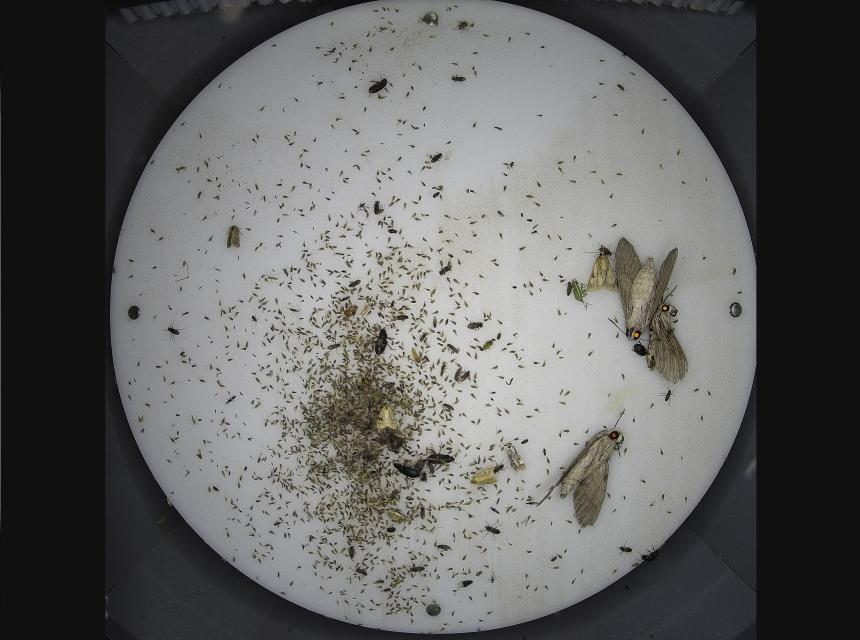Chrysopidae: (263, 270, 282, 285), (482, 339, 496, 352), (469, 384, 481, 389)
Coridius chinensis: (571, 279, 594, 314)
Tiny fly: (455, 579, 475, 590), (458, 370, 472, 384), (450, 73, 468, 83), (436, 544, 453, 553), (430, 316, 441, 329), (517, 244, 528, 255), (385, 228, 399, 236), (475, 417, 485, 428), (463, 298, 471, 311), (506, 161, 515, 172), (562, 425, 571, 436), (648, 400, 656, 412), (503, 406, 512, 416), (496, 373, 506, 382), (556, 399, 568, 406), (554, 159, 566, 166), (587, 349, 596, 358), (692, 386, 700, 395), (489, 364, 499, 371), (541, 359, 548, 369), (586, 331, 593, 340), (545, 468, 551, 478), (515, 401, 525, 407), (556, 348, 563, 356), (706, 389, 712, 398), (697, 414, 704, 421), (630, 415, 636, 423)
beetle: (427, 442, 463, 472), (370, 328, 398, 356), (391, 458, 421, 482), (368, 73, 395, 95), (162, 320, 187, 343), (403, 558, 430, 579), (479, 520, 505, 539), (658, 386, 678, 406), (494, 458, 511, 479), (615, 540, 635, 556), (454, 18, 472, 35), (437, 264, 454, 279), (465, 321, 486, 332), (430, 150, 445, 164), (372, 199, 382, 218), (347, 278, 363, 289), (445, 343, 459, 355), (395, 314, 411, 324), (347, 546, 358, 559), (564, 281, 572, 298), (373, 576, 388, 585), (520, 438, 530, 445)
moth: (531, 426, 628, 535), (606, 236, 681, 345), (646, 300, 691, 387), (586, 252, 619, 294), (505, 442, 526, 476), (469, 465, 499, 485), (377, 402, 398, 430), (386, 507, 412, 528), (225, 225, 246, 250)
